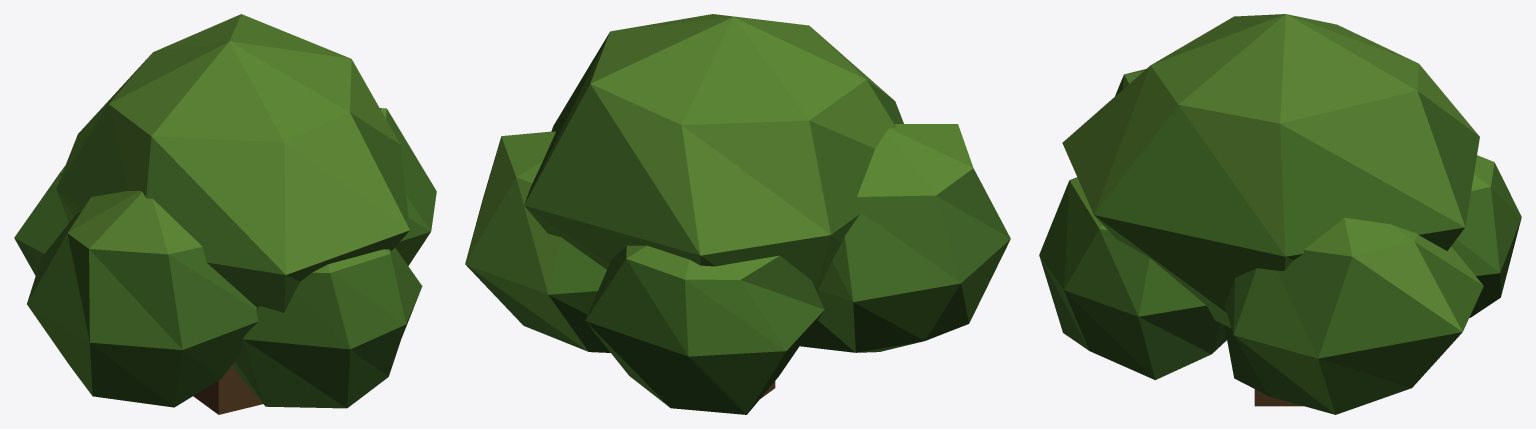
Rendered from garden_bush.obj.
The picture shows the model from 3 angles, left to right: view 1: azimuth 30°, elevation 25°; view 2: azimuth 150°, elevation 25°; view 3: azimuth 270°, elevation 25°; orthographic projection. The views are drawn at different scales.
Bounding box in the file's own units: 102 × 80.85 × 93.24.
